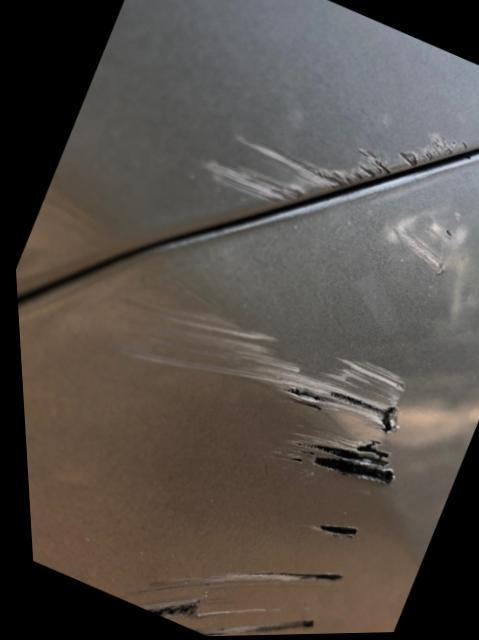scratch: (81, 298, 413, 637), (196, 127, 479, 203)
